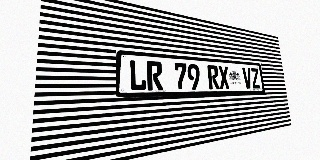7: (173, 63, 188, 90)
9: (187, 63, 201, 90)
L: (129, 59, 147, 91)
R: (147, 61, 163, 90), (207, 65, 220, 89)
V: (242, 67, 253, 89)
X: (218, 66, 230, 89)
Z: (250, 68, 260, 88)
